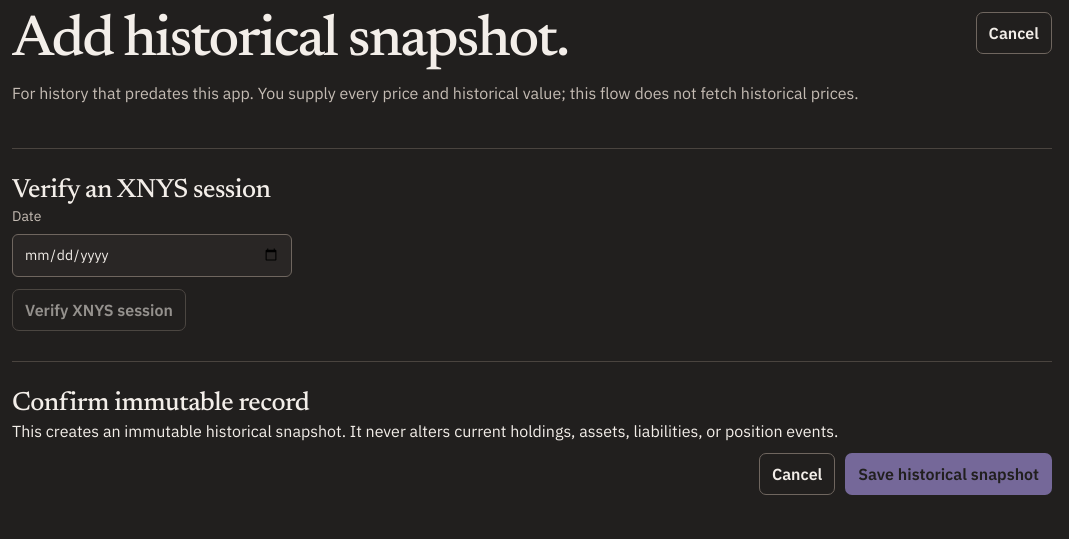
it: HistoricalBackfill › blocks a non-session with clear copy
The image size is (1069, 539).
In the date field labelled "Date": coordinates (152, 255) x1=12 y1=234 x2=292 y2=277, type "2026-10-24"
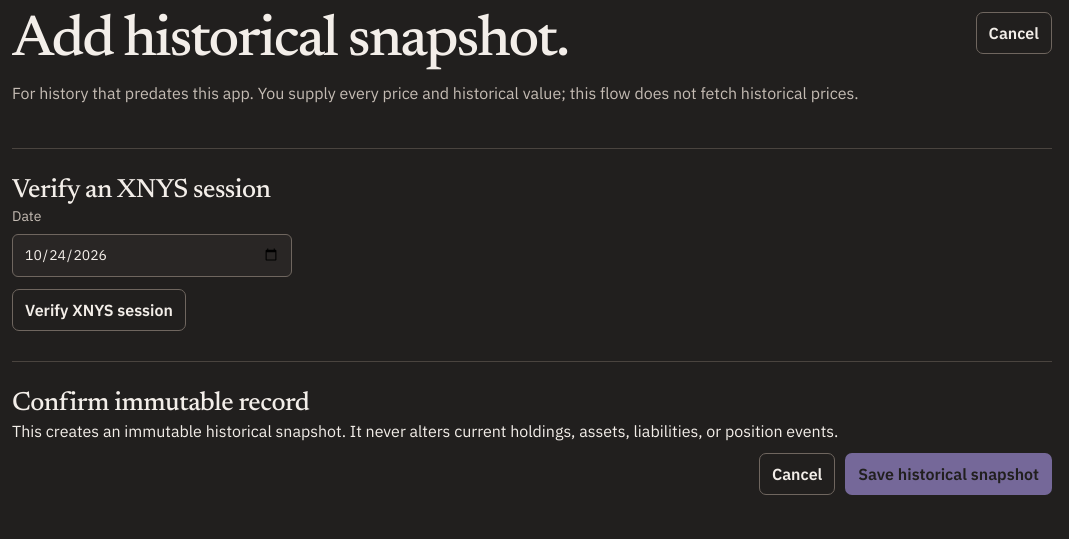
Click the button "Verify XNYS session": coordinates (99, 310) x1=12 y1=289 x2=186 y2=331
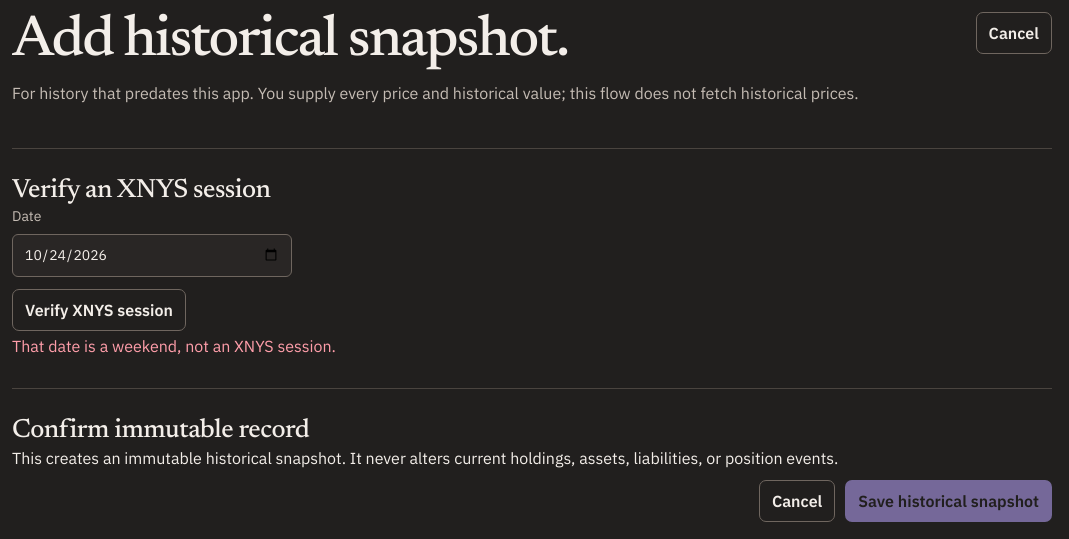
Expected: the button "Save historical snapshot" is disabled, x1=845 y1=480 x2=1052 y2=522
Expected: the message shows "weekend", x1=12 y1=336 x2=336 y2=356
